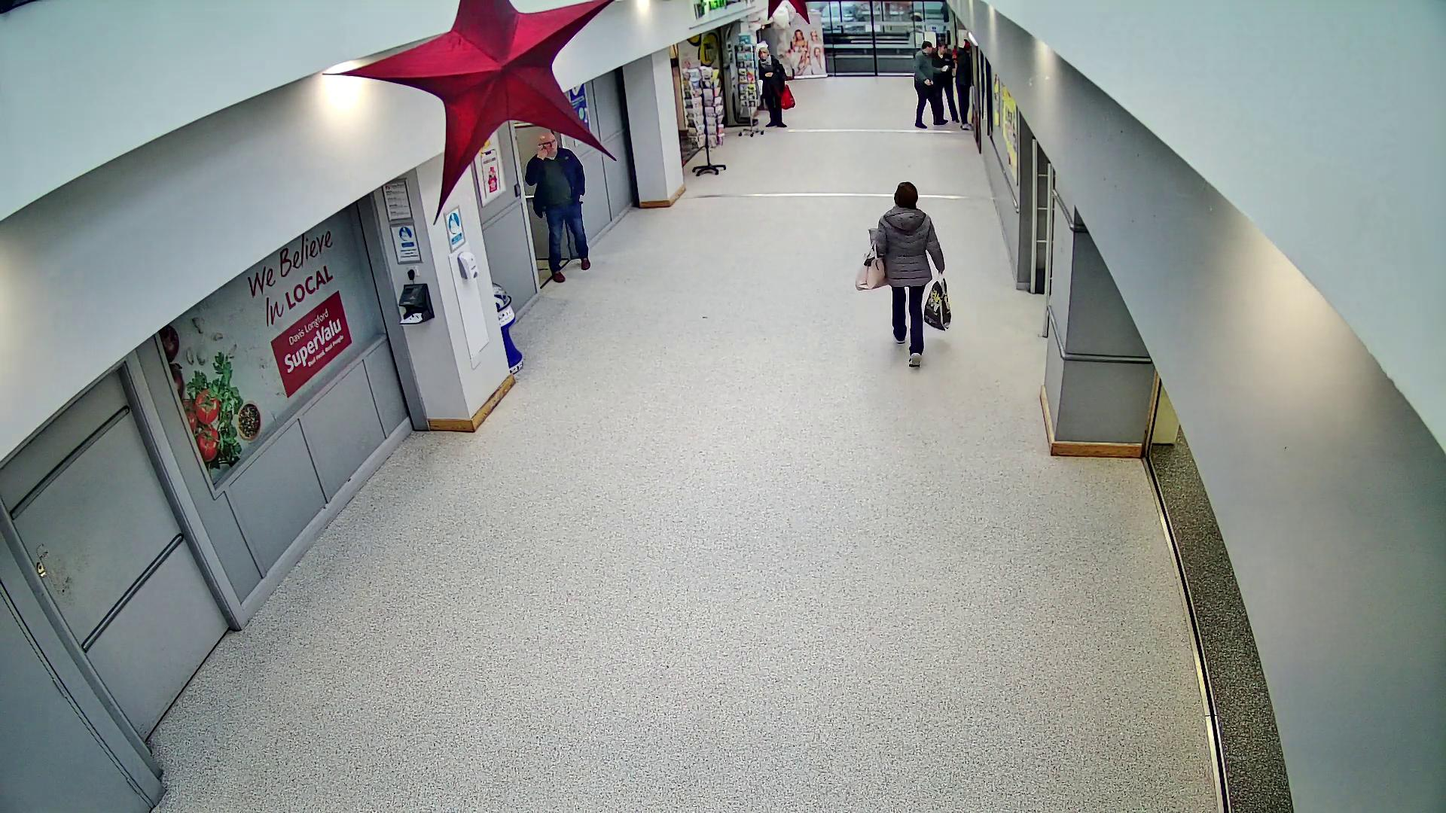backpack-or-handbag: (854, 245, 888, 292)
filled-shopping-bags: (923, 271, 952, 331)
person: (867, 181, 945, 367)
person-with-backpack-handbag-and-shopping-bag-s-: (854, 181, 951, 367)
